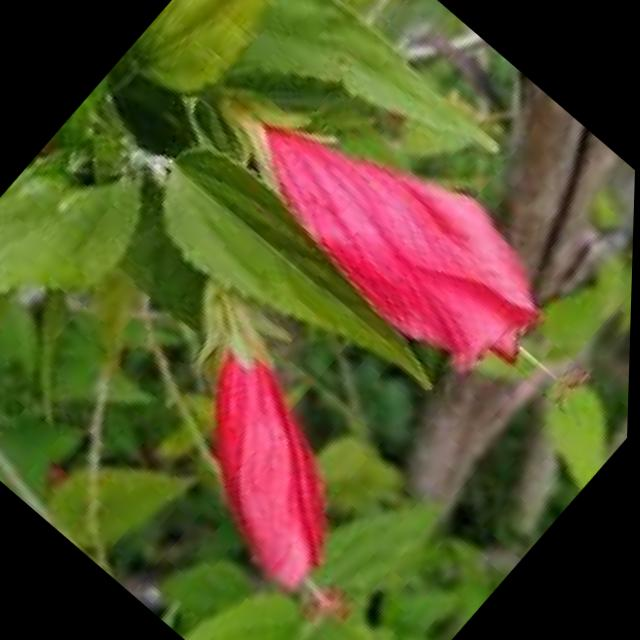Flower: (178, 27, 639, 450), (76, 275, 469, 640)
